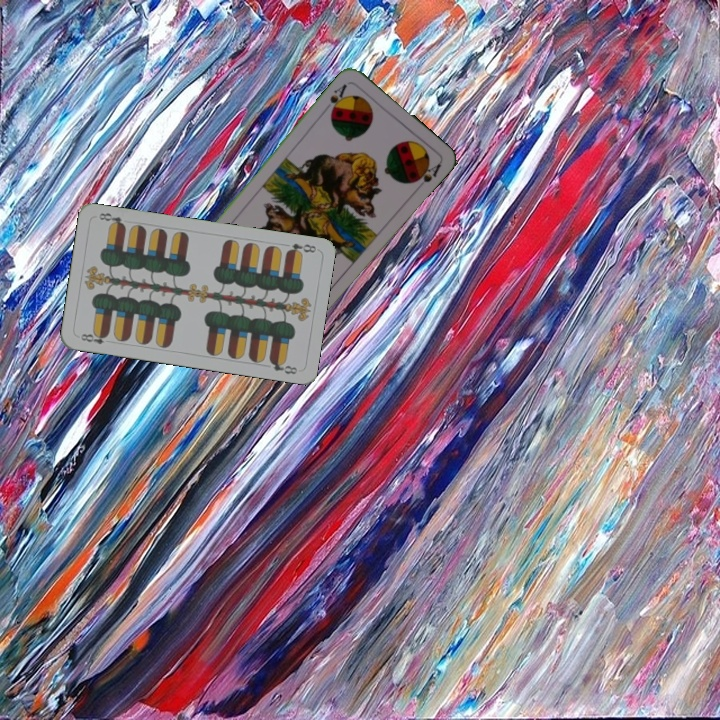E8: (282, 239, 319, 258), (77, 328, 111, 347)
SA: (326, 79, 350, 116)
